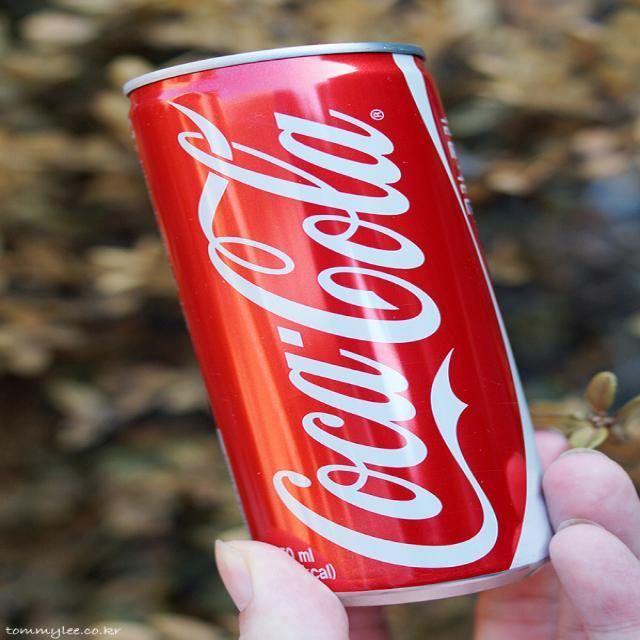coca-cola: (122, 36, 562, 608)
